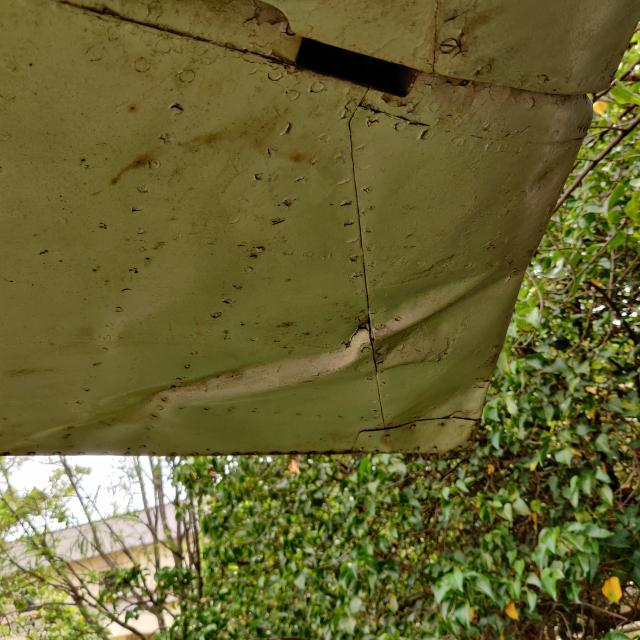crack: (332, 318, 374, 360)
dent: (77, 243, 534, 467), (365, 371, 498, 480)
